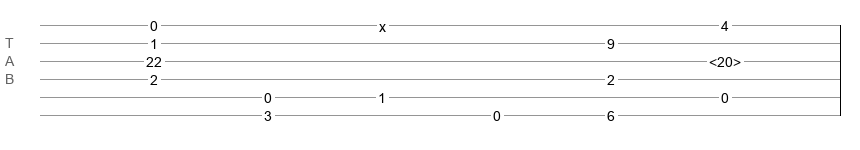0: (150, 18, 158, 28), (264, 90, 272, 100), (493, 108, 501, 118), (721, 90, 729, 100)
1: (150, 36, 158, 46), (378, 90, 386, 100)
2: (150, 72, 158, 82), (607, 72, 615, 82)
22: (146, 54, 162, 64)
3: (264, 108, 272, 118)
4: (721, 18, 729, 28)
6: (607, 108, 615, 118)
9: (607, 36, 615, 46)
harmonic: (709, 54, 741, 64)
x: (379, 19, 386, 27)
